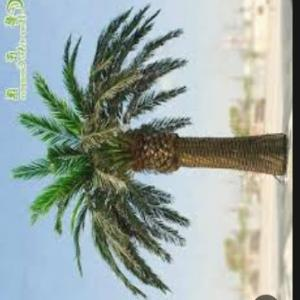palm tree: (11, 3, 288, 299)
